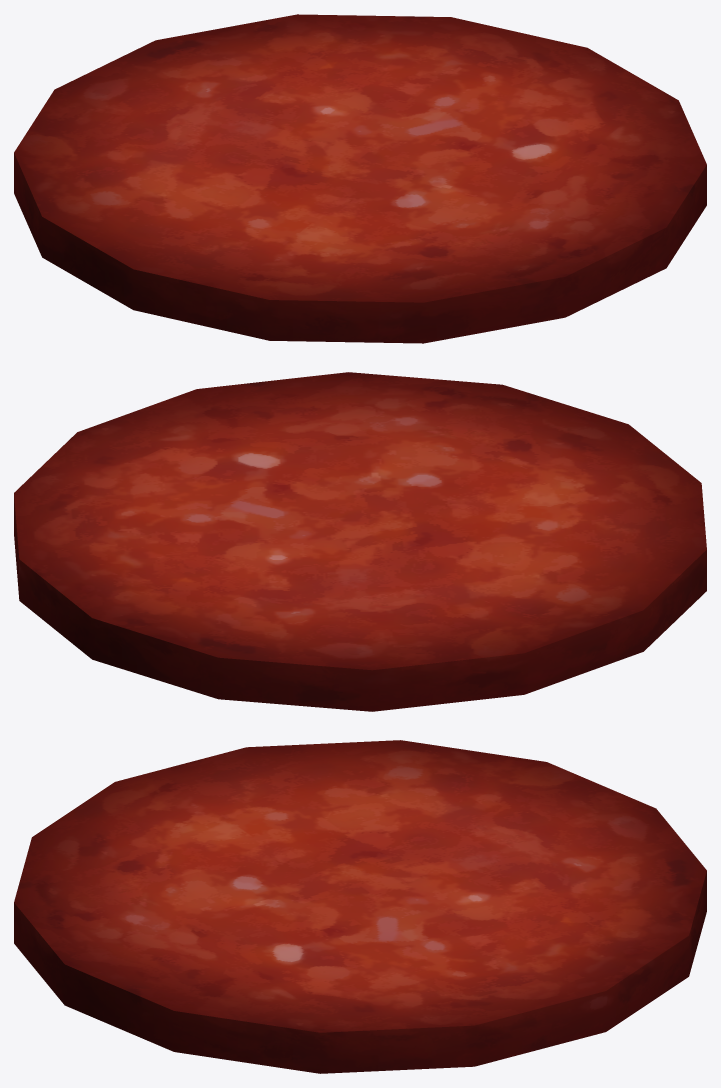
File: Pepperoni.fbx
3 views of the same model, one above another, from view 1: azimuth 30°, elevation 25°; view 2: azimuth 150°, elevation 25°; view 3: azimuth 270°, elevation 25° (orthographic).
Visible parts, largest first — view 1: Pepperoni; view 2: Pepperoni; view 3: Pepperoni.
Part boxes in pixels (left/top/right/bottom): Pepperoni: left=14, top=14, right=706, bottom=343; Pepperoni: left=14, top=372, right=706, bottom=711; Pepperoni: left=14, top=740, right=706, bottom=1073.
Size of the model in its own units: 19.87 by 1.3 by 19.88.
